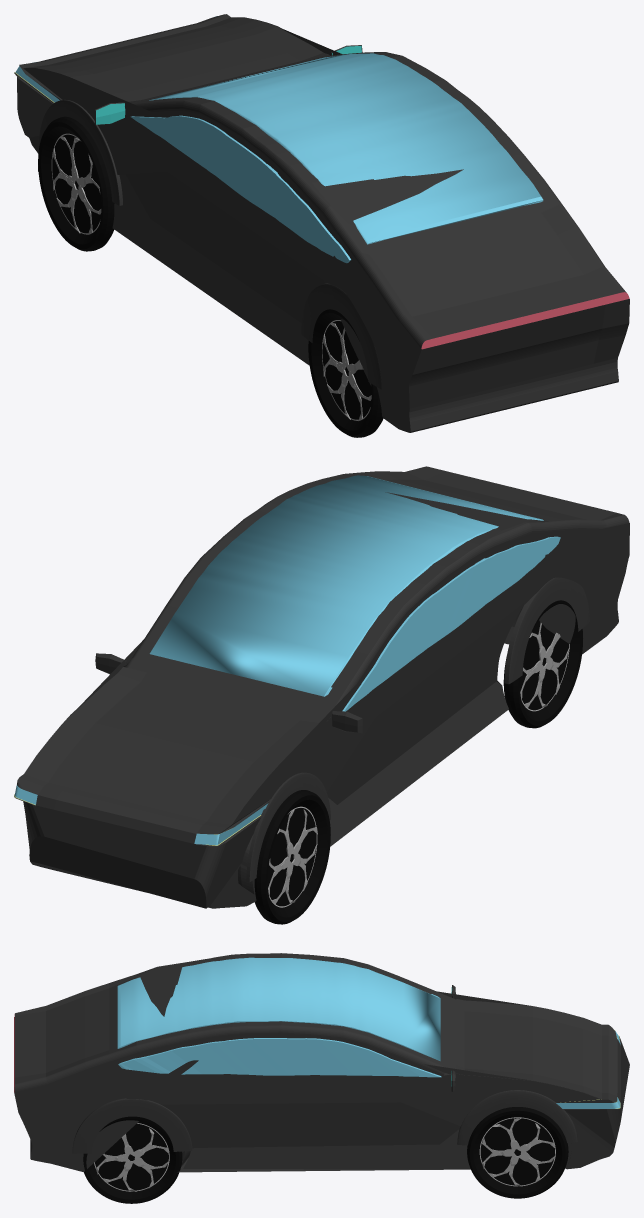
Rendered from Car NEW.fbx.
3 views of the same model, one above another, from view 1: azimuth 30°, elevation 25°; view 2: azimuth 150°, elevation 25°; view 3: azimuth 270°, elevation 25° (orthographic). The views are drawn at different scales.
Parts seen in each view (by area): view 1: Car, Wheels.003, Wheels.000, Cylinder.003, Cylinder.002; view 2: Car, Wheels.003, Wheels.000, Cylinder.003, Cylinder.002; view 3: Car, Wheels.001, Wheels.002, Cylinder.001, Cylinder.
Part boxes in pixels (left/top/right/bottom): Car: left=14, top=14, right=629, bottom=432; Wheels.003: left=38, top=116, right=114, bottom=251; Wheels.000: left=308, top=309, right=383, bottom=437; Cylinder.003: left=301, top=283, right=381, bottom=389; Cylinder.002: left=38, top=99, right=122, bottom=205; Car: left=14, top=466, right=629, bottom=908; Wheels.003: left=254, top=790, right=330, bottom=924; Wheels.000: left=503, top=600, right=582, bottom=728; Cylinder.003: left=504, top=577, right=589, bottom=684; Cylinder.002: left=246, top=772, right=330, bottom=882; Car: left=14, top=953, right=629, bottom=1172; Wheels.001: left=467, top=1107, right=568, bottom=1198; Wheels.002: left=83, top=1116, right=182, bottom=1203; Cylinder.001: left=72, top=1098, right=192, bottom=1153; Cylinder: left=457, top=1090, right=577, bottom=1145.
Bounding box in the file's own units: 340 × 290 × 919.
